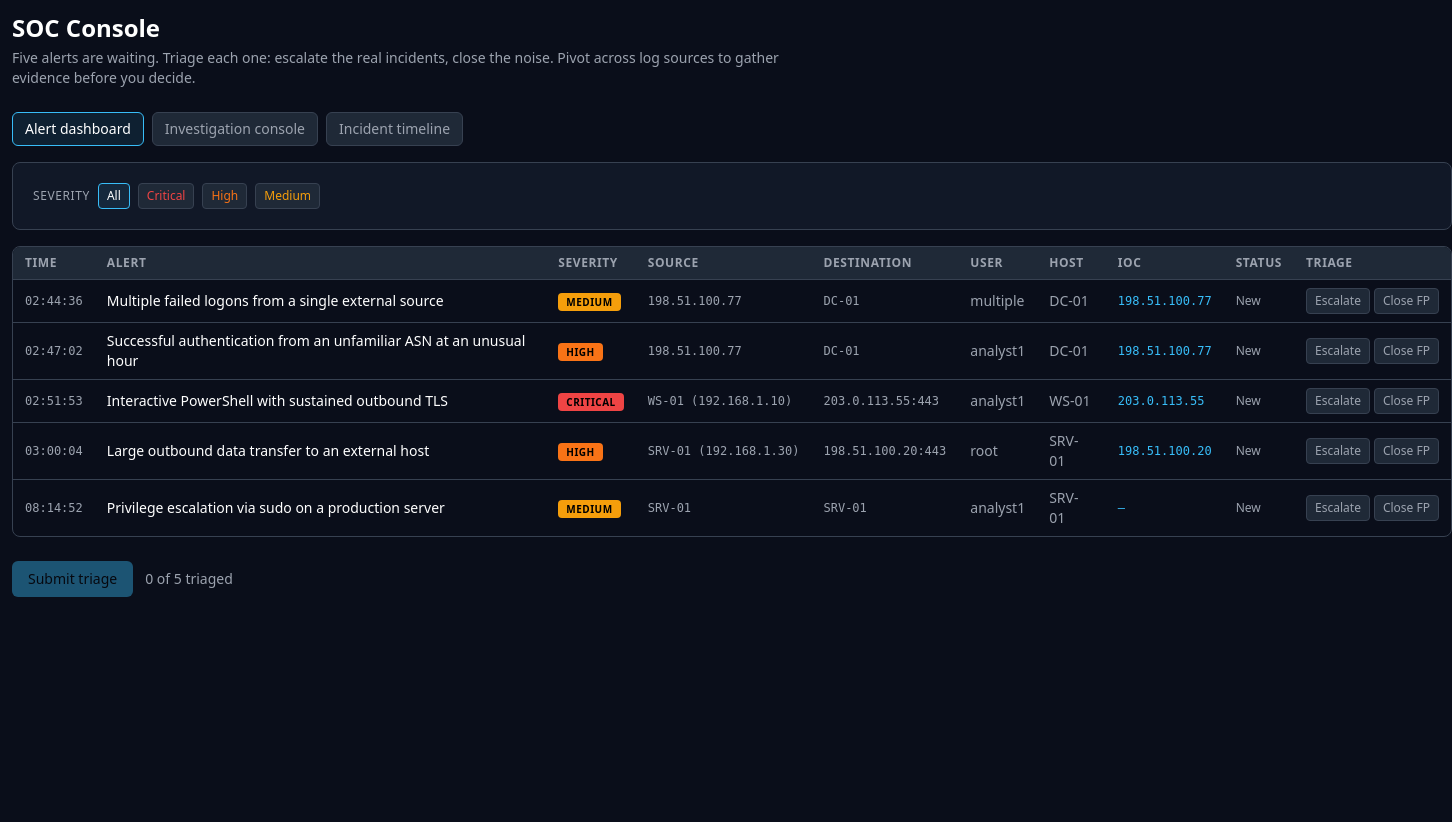
Test: SOC Console › filters the queue by severity
The width and height of the screenshot is (1452, 822).
Step 1. Click the button "critical" → click(166, 196), box 138,183 -> 194,209
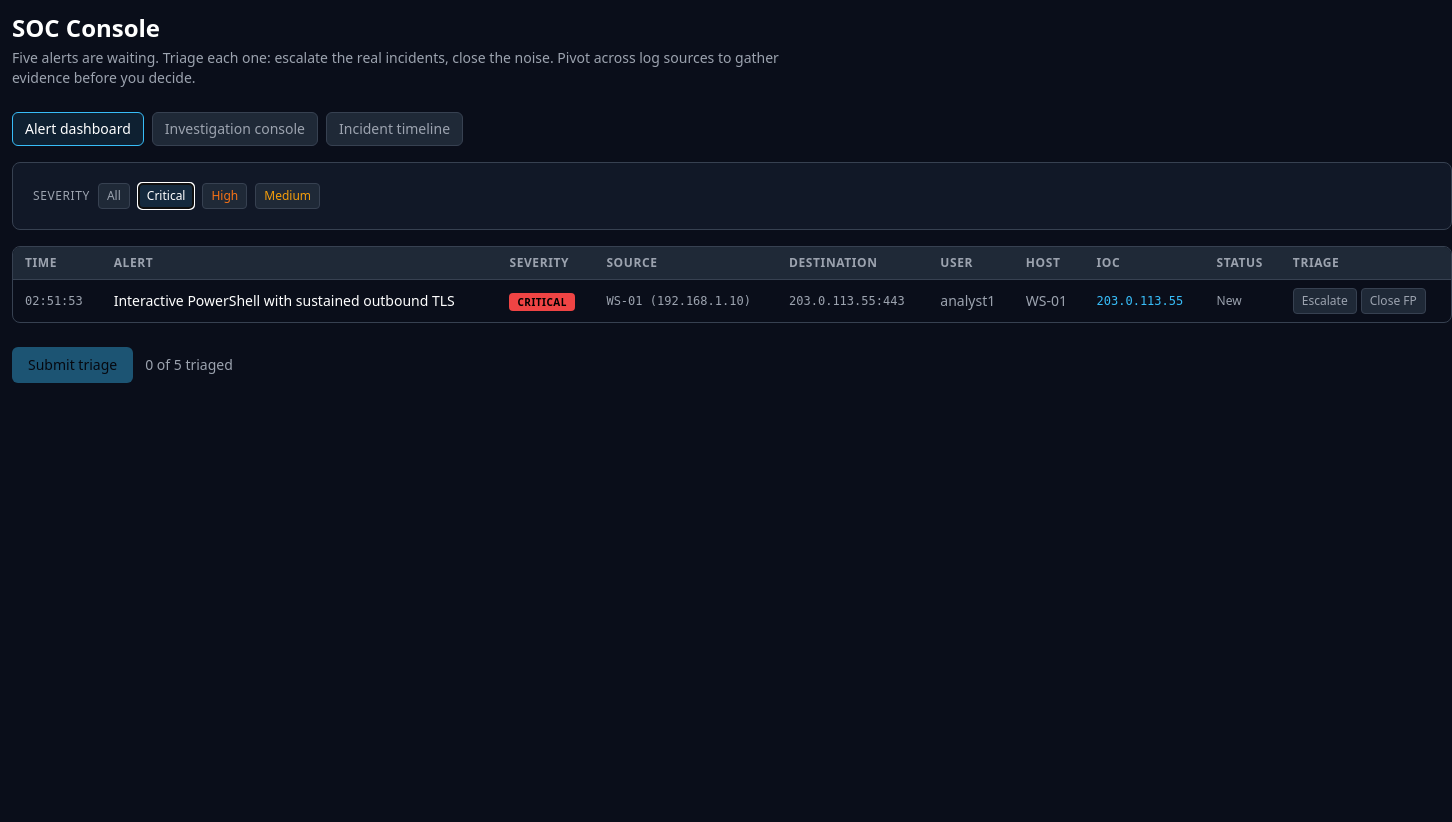
expect the number of buttons named ": Escalate" is 1: met, box 1293,288 -> 1357,314
